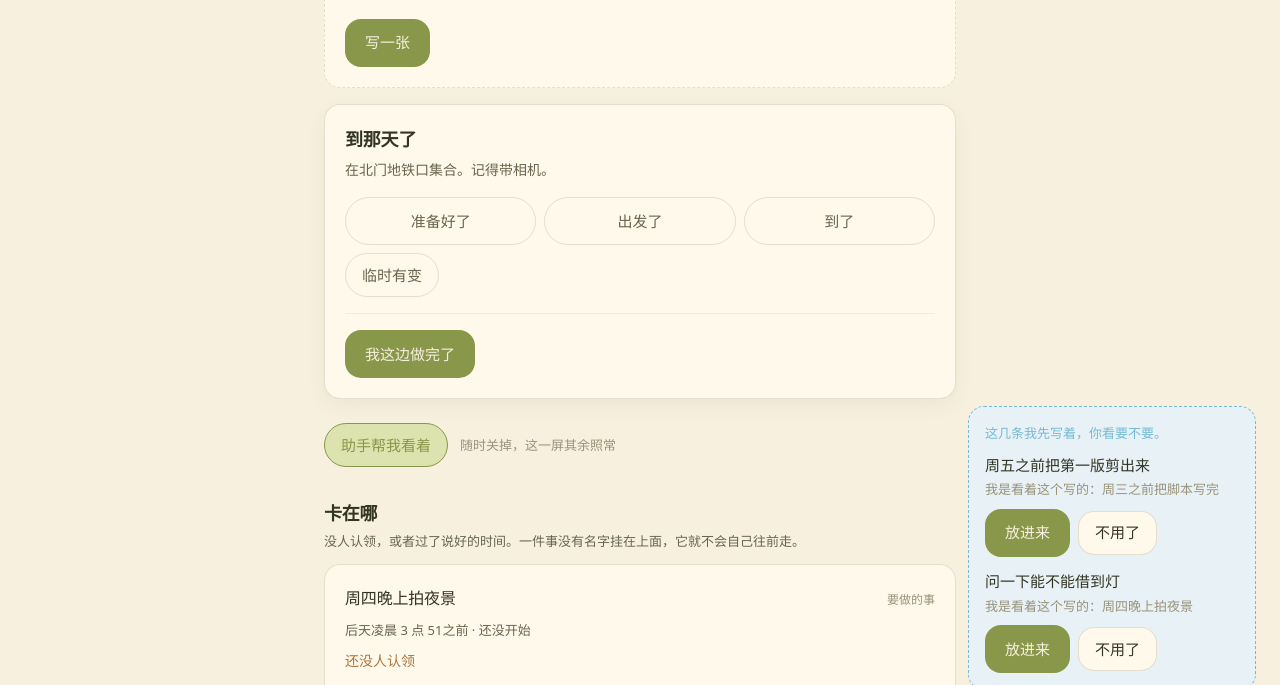
Test: 到那天了 › 我说做完了之后，说清还差谁——并且点错了能收回
This screenshot has width=1280, height=685.
(page scrolled)
Click the button "我这边做完了".
click(410, 354)  # box x1=345 y1=330 x2=475 y2=378
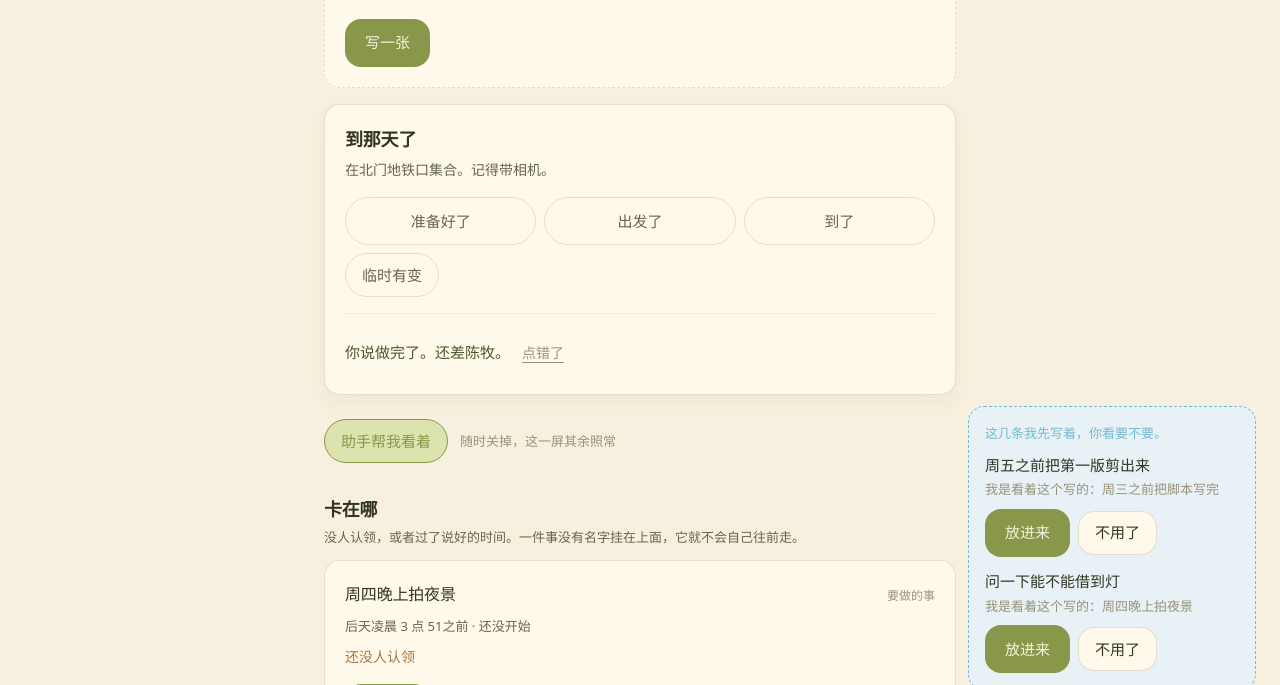
Expected: the text "你说做完了。还差陈牧。" is shown, x1=345 y1=340 x2=510 y2=365
Expected: the button "点错了" is shown, x1=522 y1=330 x2=564 y2=374
